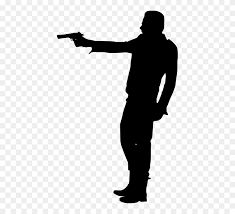gun: (54, 30, 88, 49)
